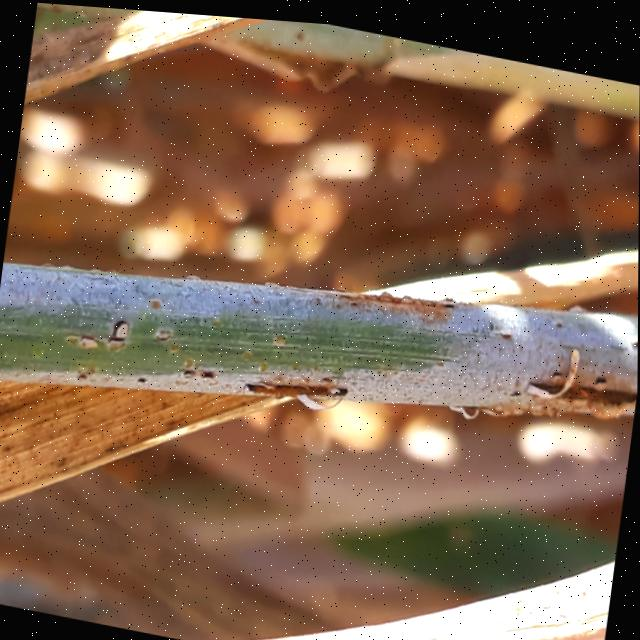black_stem_rust: (0, 128, 639, 640), (23, 1, 640, 215)
